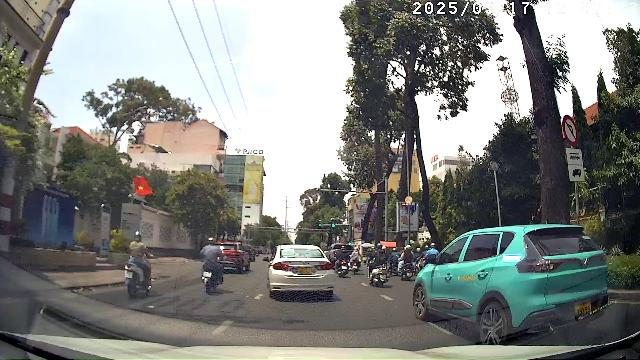123a-cam-re-trai: (562, 114, 579, 146)
